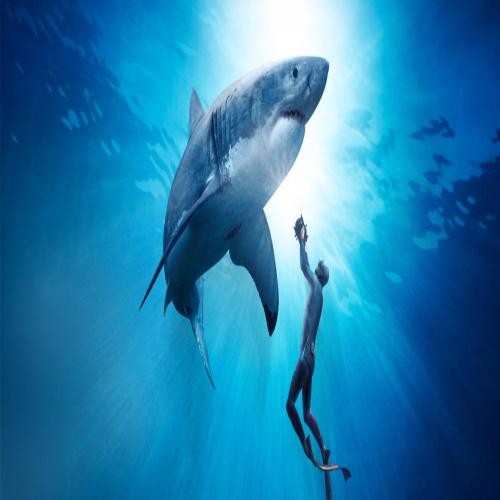shark-endangered: (149, 45, 331, 326)
